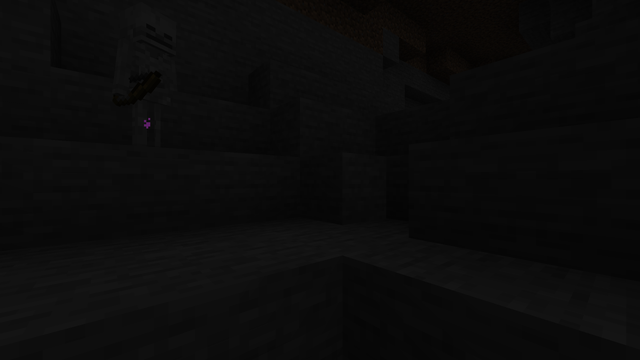squelettes: (121, 3, 175, 126)
